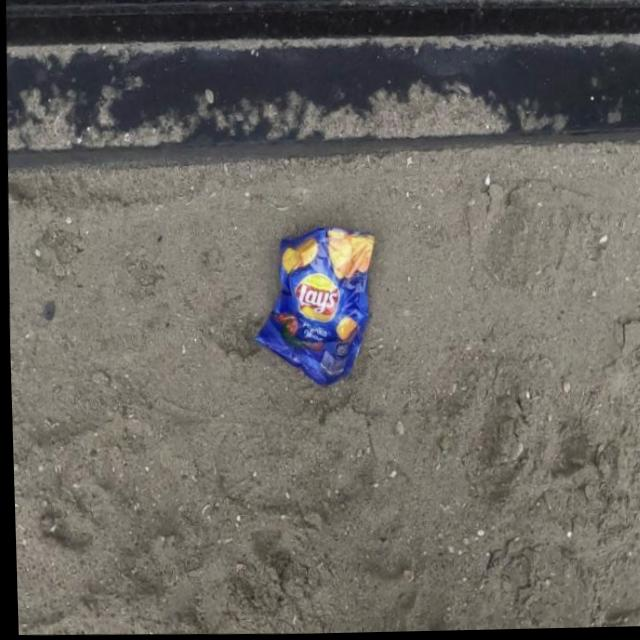Plastic: (246, 225, 379, 391)
